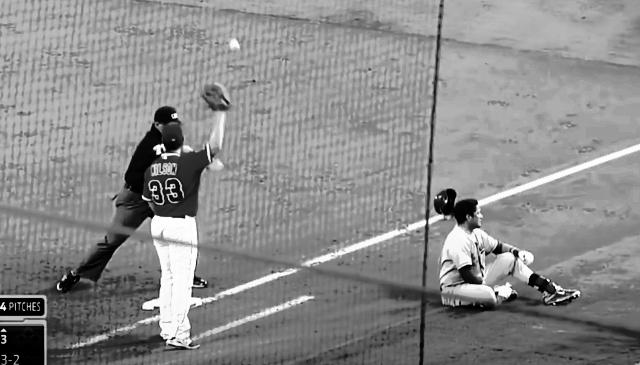jatuh: (436, 192, 590, 318)
